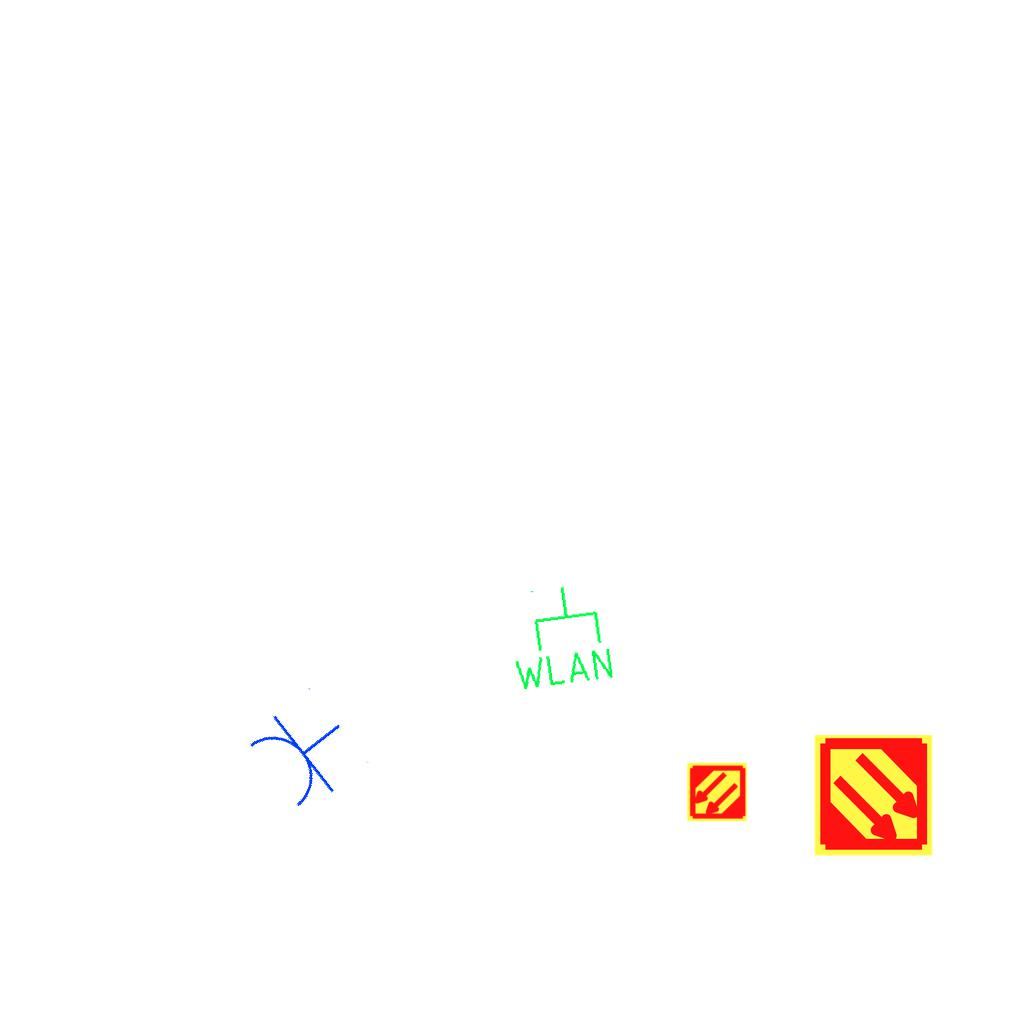ASR_Ansaugrauchmelder: (811, 733, 936, 858), (686, 761, 748, 823)
Schukosteckdose_einfach: (239, 685, 371, 818)
WLAN: (499, 577, 619, 696)
